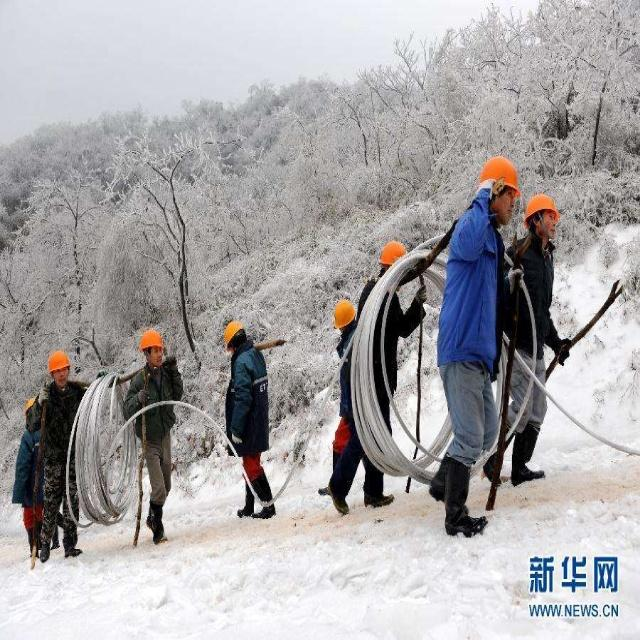helmet: (477, 207, 517, 305), (523, 252, 556, 328), (379, 319, 408, 385), (332, 399, 357, 452), (46, 465, 70, 520), (139, 436, 163, 491), (223, 428, 244, 473)
